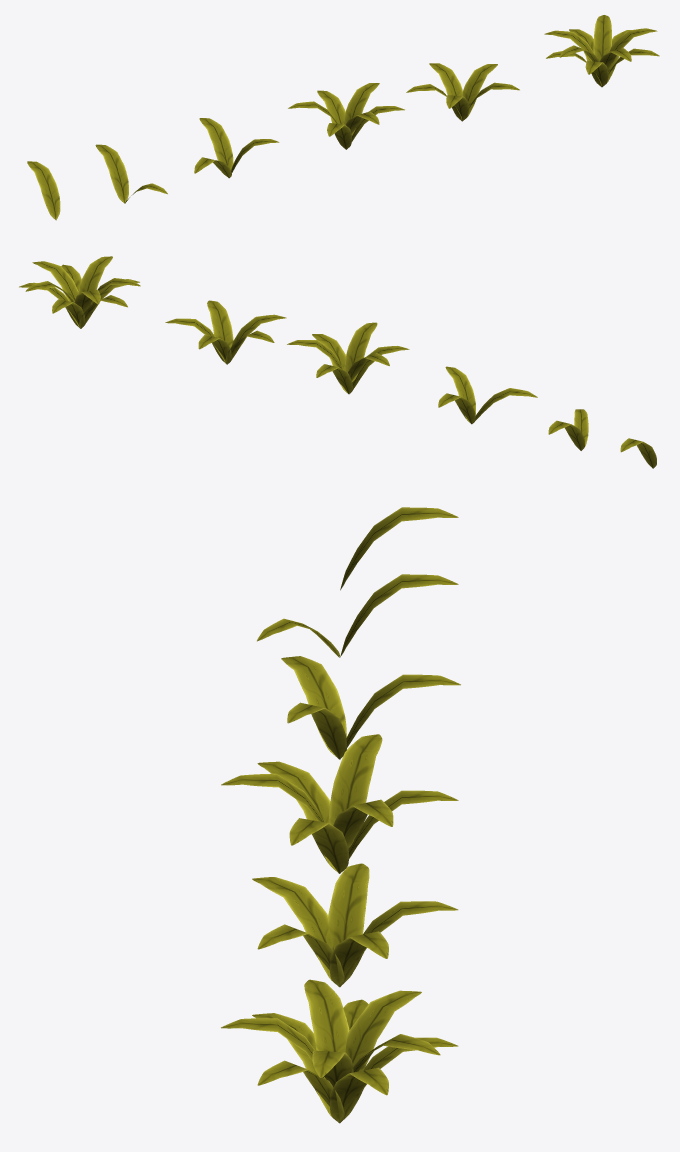
File: grass.fbx
3 renders of one model, top to bottom at view 1: azimuth 30°, elevation 25°; view 2: azimuth 150°, elevation 25°; view 3: azimuth 270°, elevation 25°, orthographic. The views are drawn at different scales.
Visible parts, largest first — view 1: Grass 5, Grass 3, Grass 4, Grass 2, Grass 1, Plane.036; view 2: Grass 5, Grass 3, Grass 4, Grass 2, Grass 1, Plane.036; view 3: Grass 5, Grass 3, Grass 4, Grass 2, Grass 1, Plane.036.
Part boxes in pixels (x1,y1,x2,y2): Grass 5: (544, 15, 659, 87); Grass 3: (288, 83, 404, 149); Grass 4: (406, 63, 519, 121); Grass 2: (194, 118, 279, 178); Grass 1: (95, 144, 167, 203); Plane.036: (27, 161, 60, 220); Grass 5: (19, 256, 140, 328); Grass 3: (287, 322, 409, 394); Grass 4: (165, 300, 286, 364); Grass 2: (438, 366, 537, 424); Grass 1: (548, 409, 588, 450); Plane.036: (620, 438, 656, 468); Grass 5: (221, 979, 458, 1123); Grass 3: (221, 734, 458, 873); Grass 4: (252, 863, 458, 987); Grass 2: (281, 656, 460, 759); Grass 1: (257, 574, 458, 657); Plane.036: (340, 507, 458, 590).
Bounding box in the file's own units: 487 × 38.87 × 87.99.
